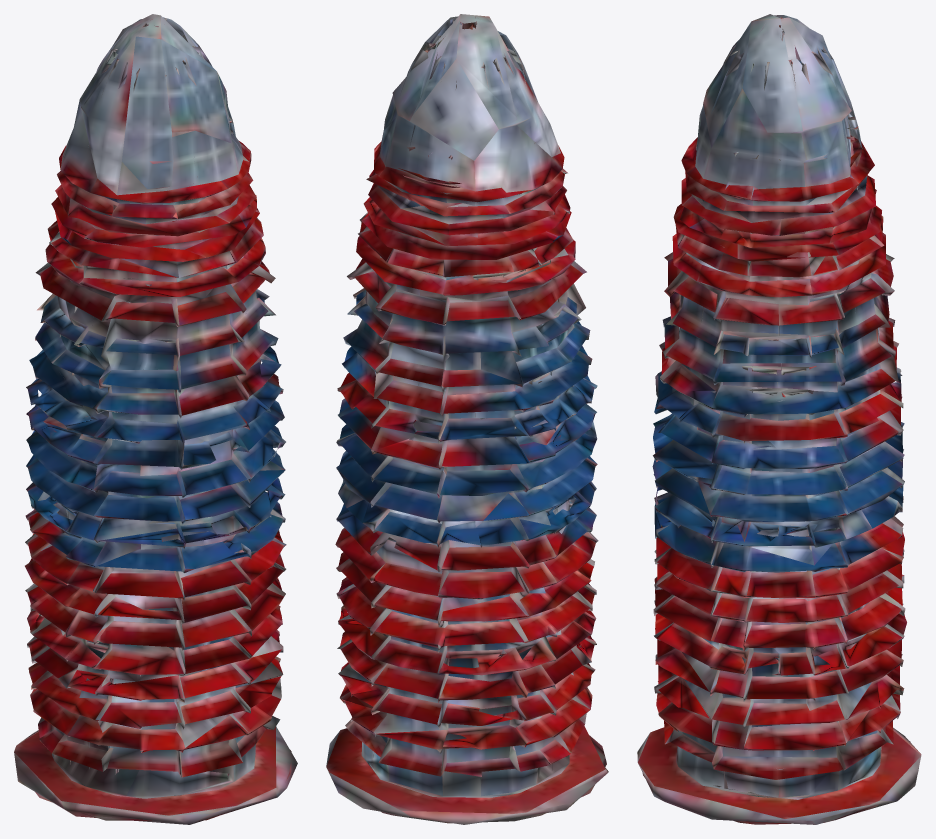
The model's file is barcelona-torre.glb.
The picture shows the model from 3 angles, left to right: view 1: azimuth 30°, elevation 25°; view 2: azimuth 150°, elevation 25°; view 3: azimuth 270°, elevation 25°; orthographic projection.
Parts seen in each view (by area): view 1: geometry_0; view 2: geometry_0; view 3: geometry_0.
Boxes of the visible parts, x1=… form: geometry_0: x1=14, y1=14, x2=297, y2=824; geometry_0: x1=326, y1=14, x2=608, y2=824; geometry_0: x1=637, y1=14, x2=921, y2=824.
Bounding box in the file's own units: 0.3398 × 0.9994 × 0.342.
Materials: 1 (1 with a texture image).
